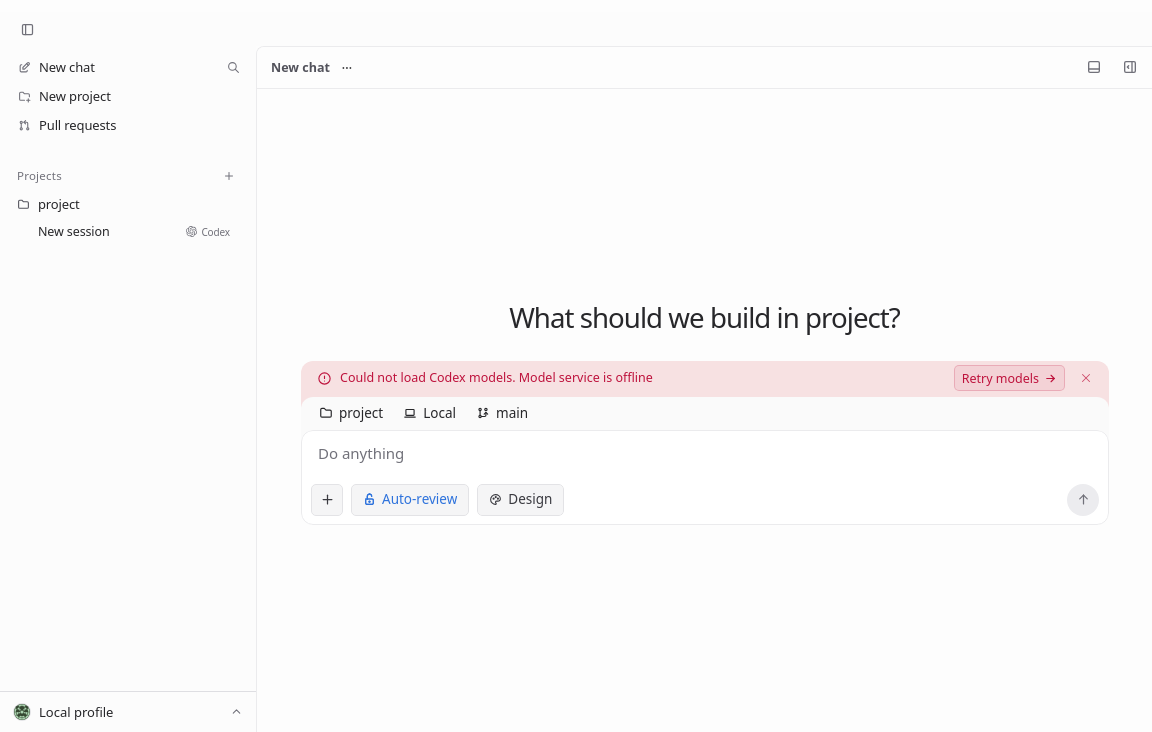
Test: web client › shows model discovery failures with a retry that preserves the draft
This screenshot has width=1152, height=732.
Type "Keep my model draft" into the text box with placeholder "Do anything" at (704, 454), box [302,430,1108,478]
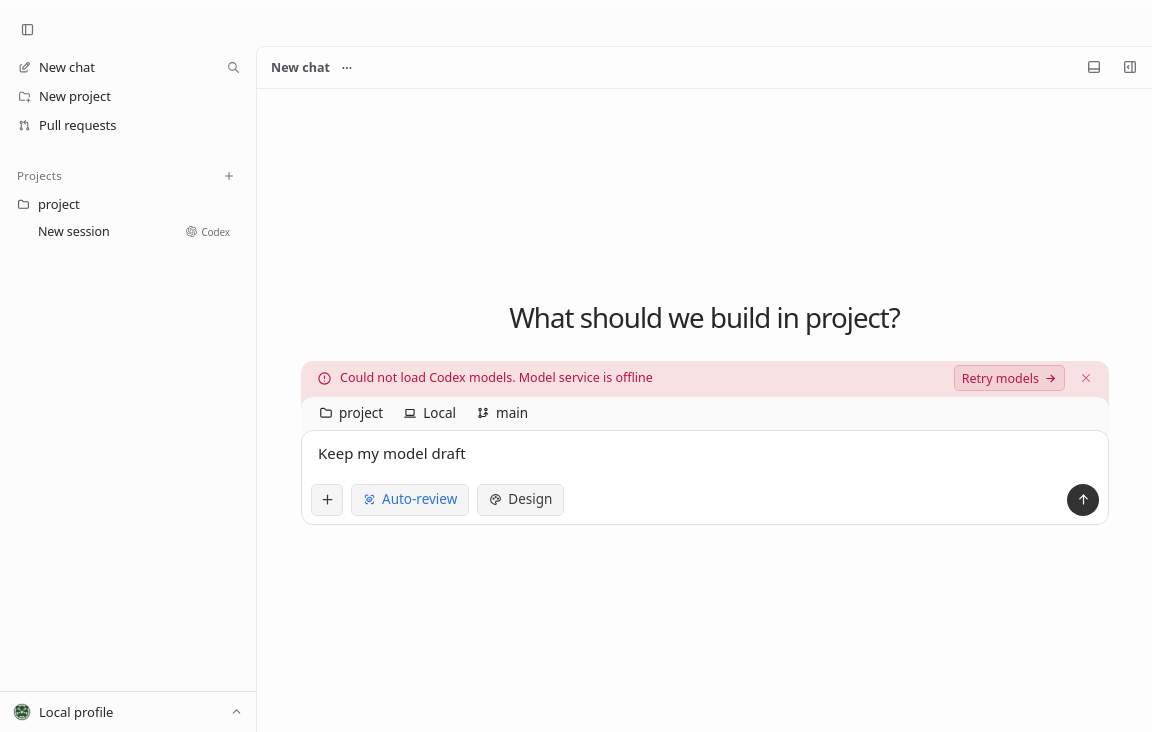
Expected: the text "Could not load Codex models. Model service is offline" is shown, [340,369,652,386]
Click the button "Retry models" at (1009, 378), box [953,365,1064,391]
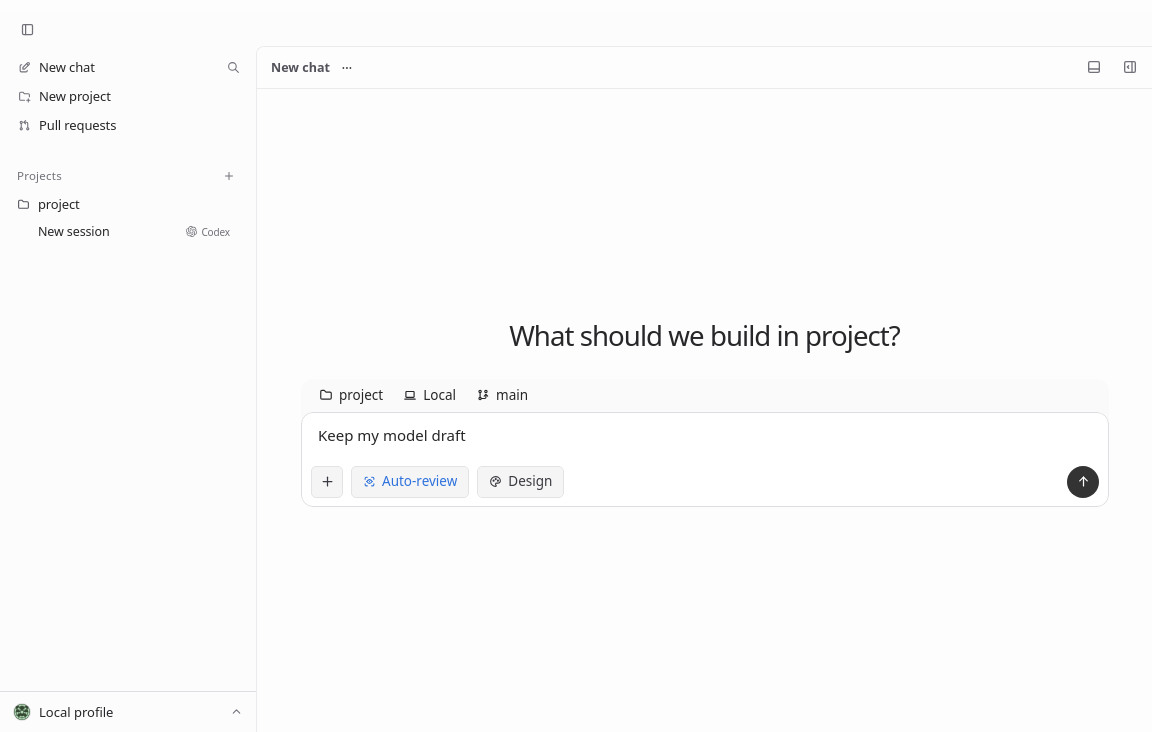
Expected: the text "Could not load Codex models. Model service is offline" is gone
